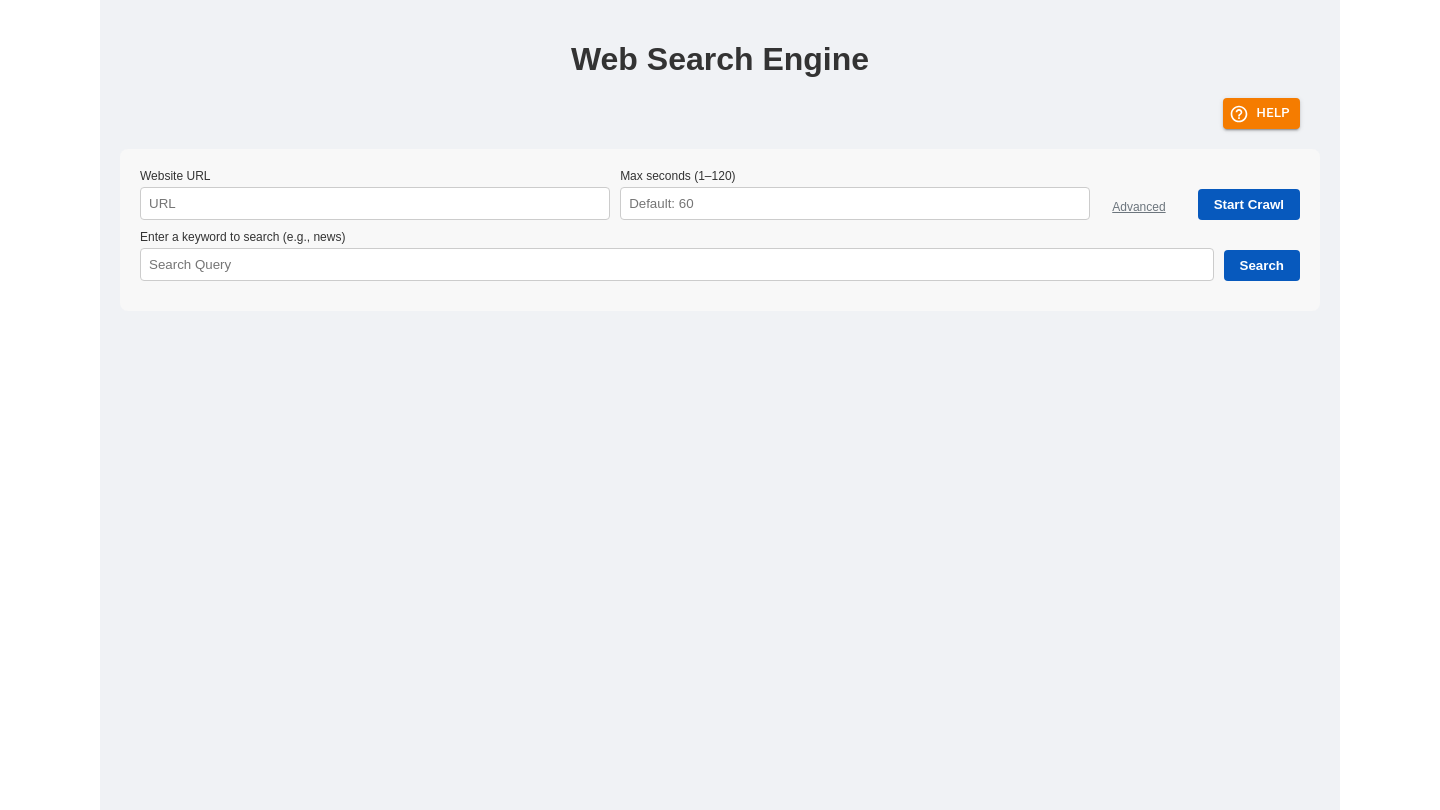
Test: offers a runnable example in Help without starting a crawl
This screenshot has width=1440, height=810.
Click the button "Help": [1261, 114] box [1223,98,1300,129]
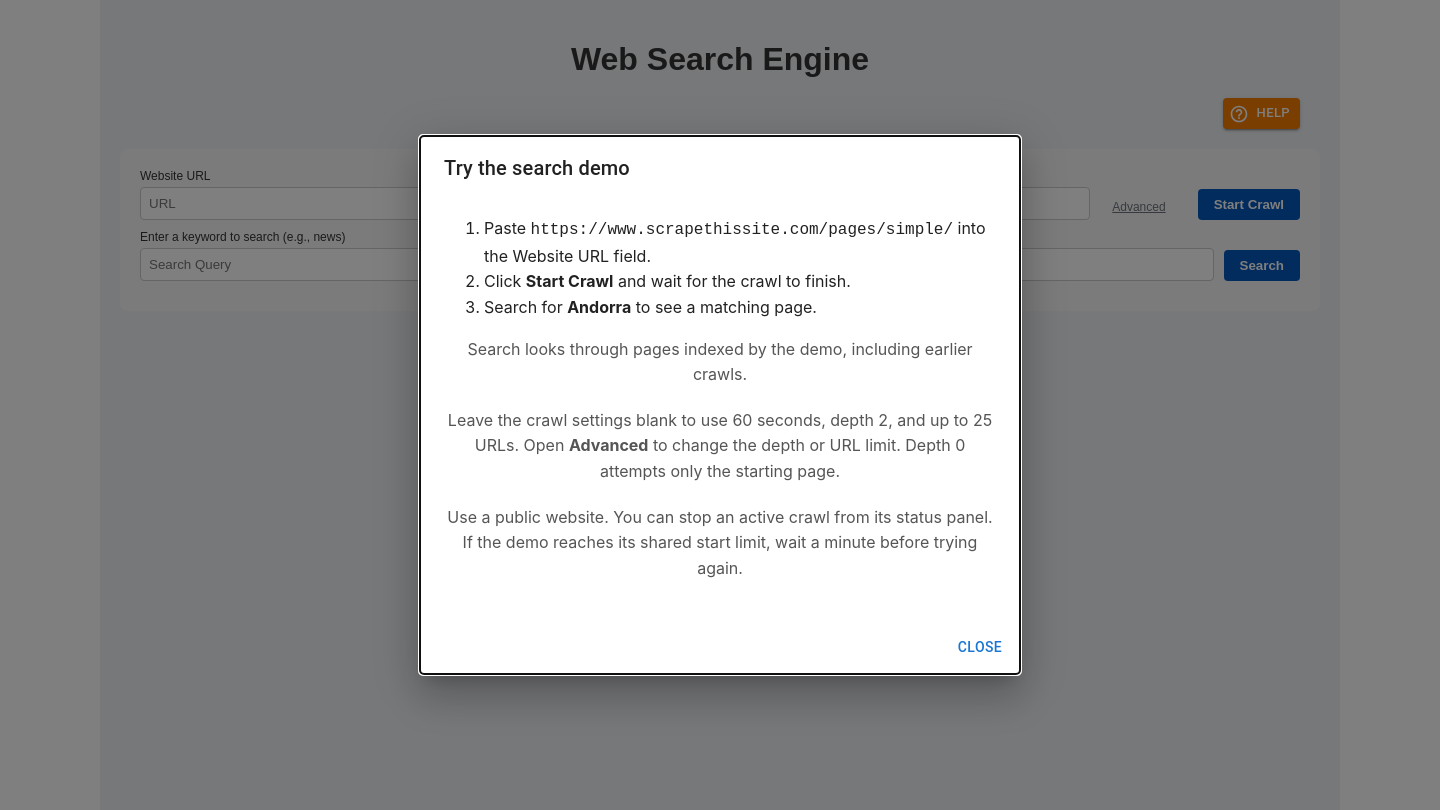
Check: the text "https://www.scrapethissite.com/pages/simple/" is shown, box [531,221,953,239]
Check: the text "Andorra" is shown, box [567,297,631,317]
